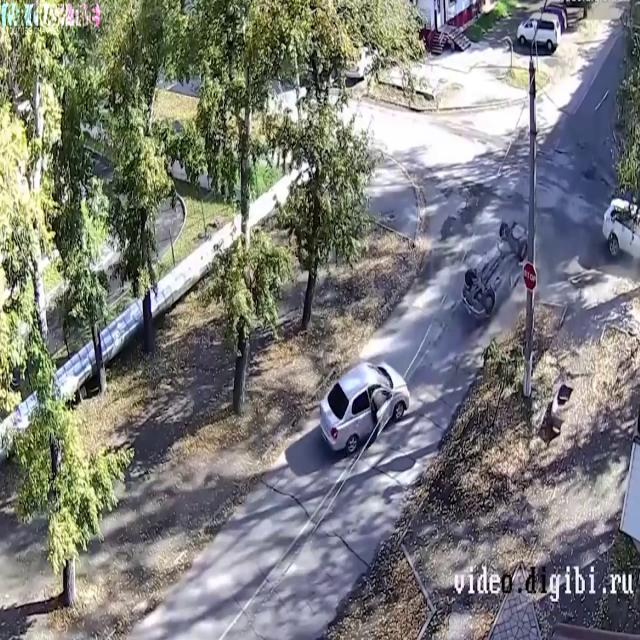Accident: (300, 318, 420, 476), (452, 196, 534, 346)
